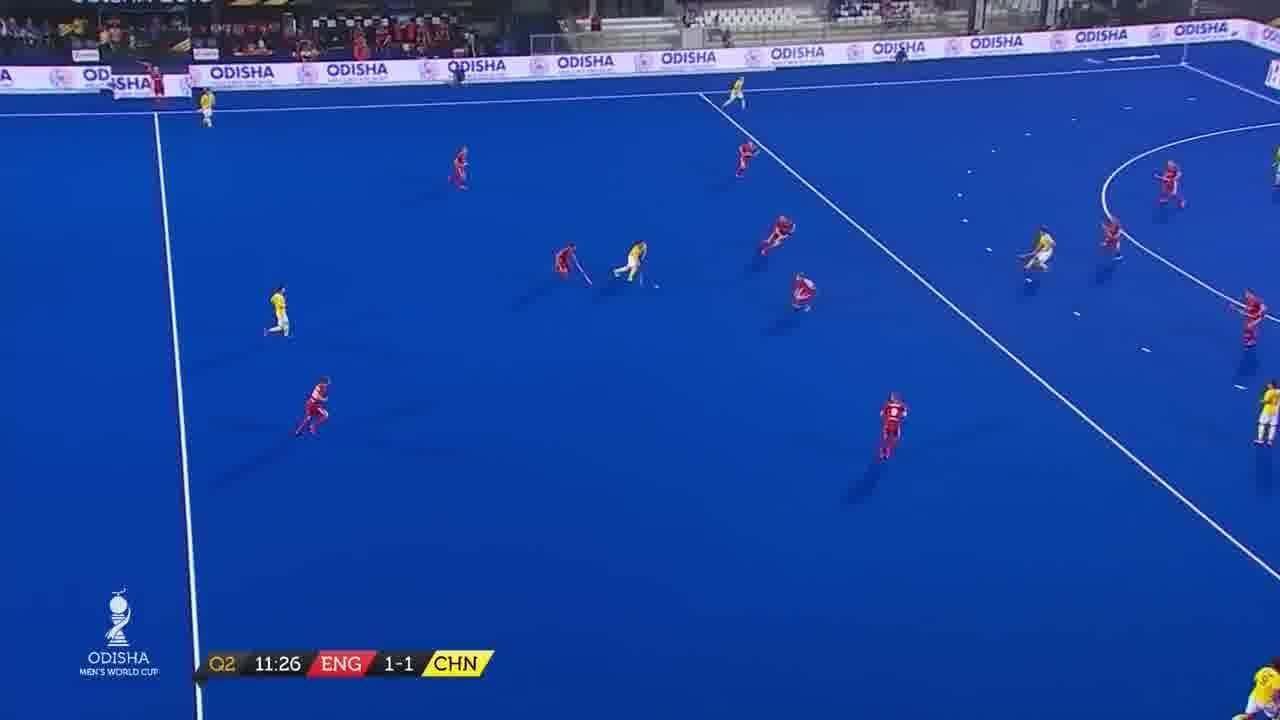ball: (646, 278, 666, 298)
